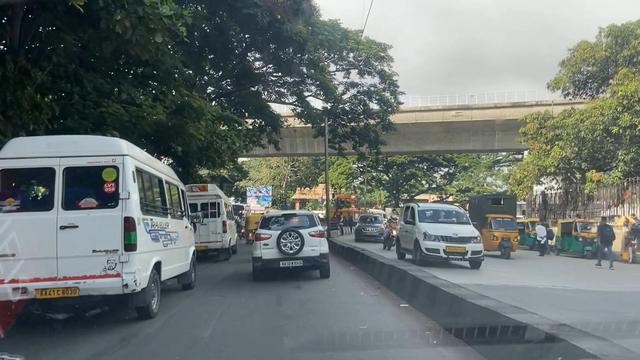HMV: (15, 140, 194, 309), (190, 186, 236, 255)
LMV: (245, 207, 335, 278)
